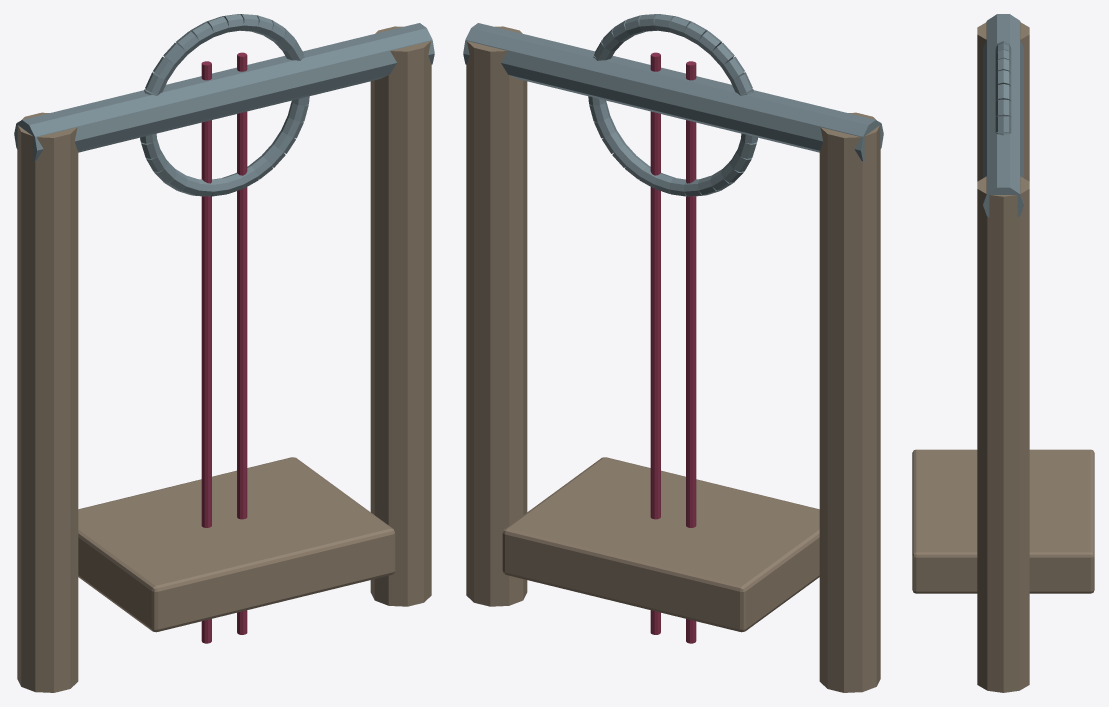
File: a3_prop.glb
3 views of the same model, side by side, from view 1: azimuth 30°, elevation 25°; view 2: azimuth 150°, elevation 25°; view 3: azimuth 270°, elevation 25° (orthographic). The views are drawn at different scales.
Parts seen in each view (by area): view 1: Body.028; view 2: Body.028; view 3: Body.028.
Boxes of the visible parts, x1=… form: Body.028: x1=14, y1=14, x2=434, y2=692; Body.028: x1=463, y1=14, x2=883, y2=692; Body.028: x1=912, y1=14, x2=1094, y2=692.
Bounding box in the file's own units: 1.84 × 2.68 × 0.8.
